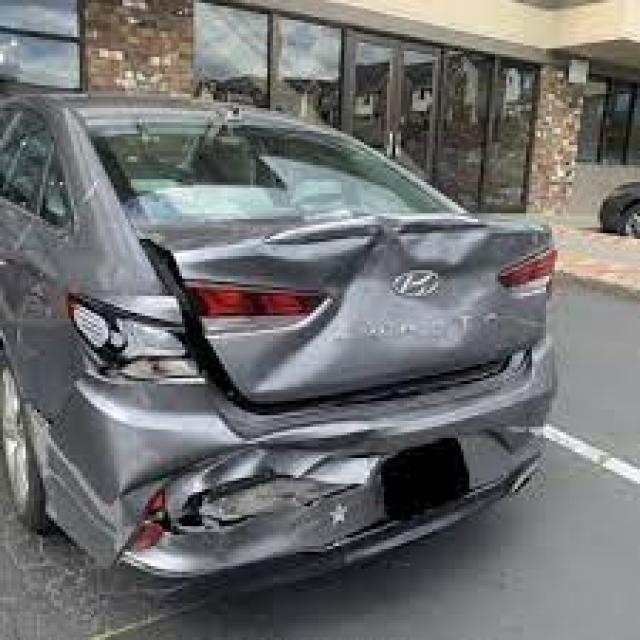minor: (35, 119, 540, 589)
